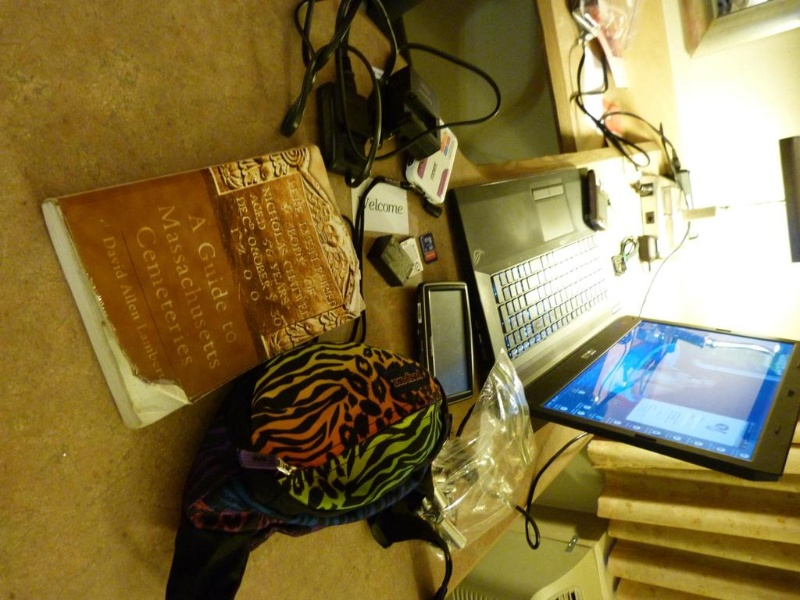book: (42, 134, 375, 432)
laptop: (450, 160, 800, 495)
